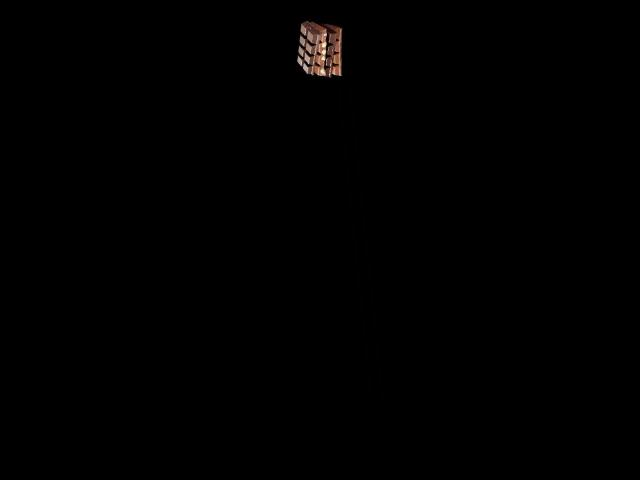chocolate: (293, 21, 348, 79)
